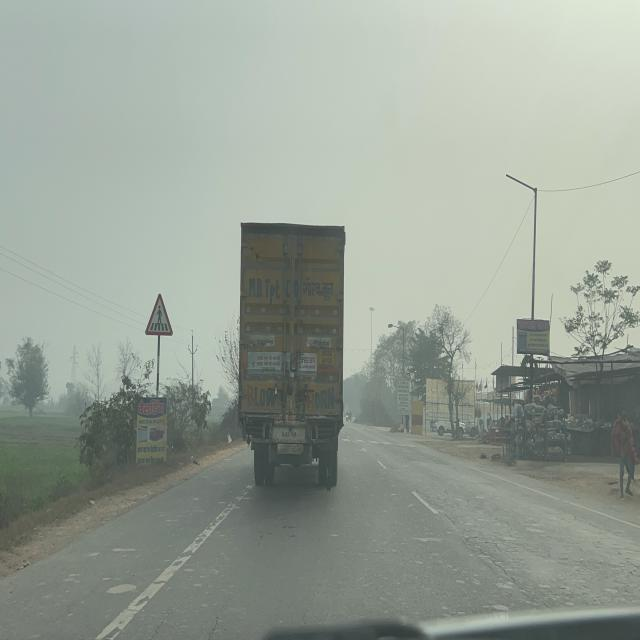PEDESTRIAN_CROSSING: (146, 293, 173, 336)
